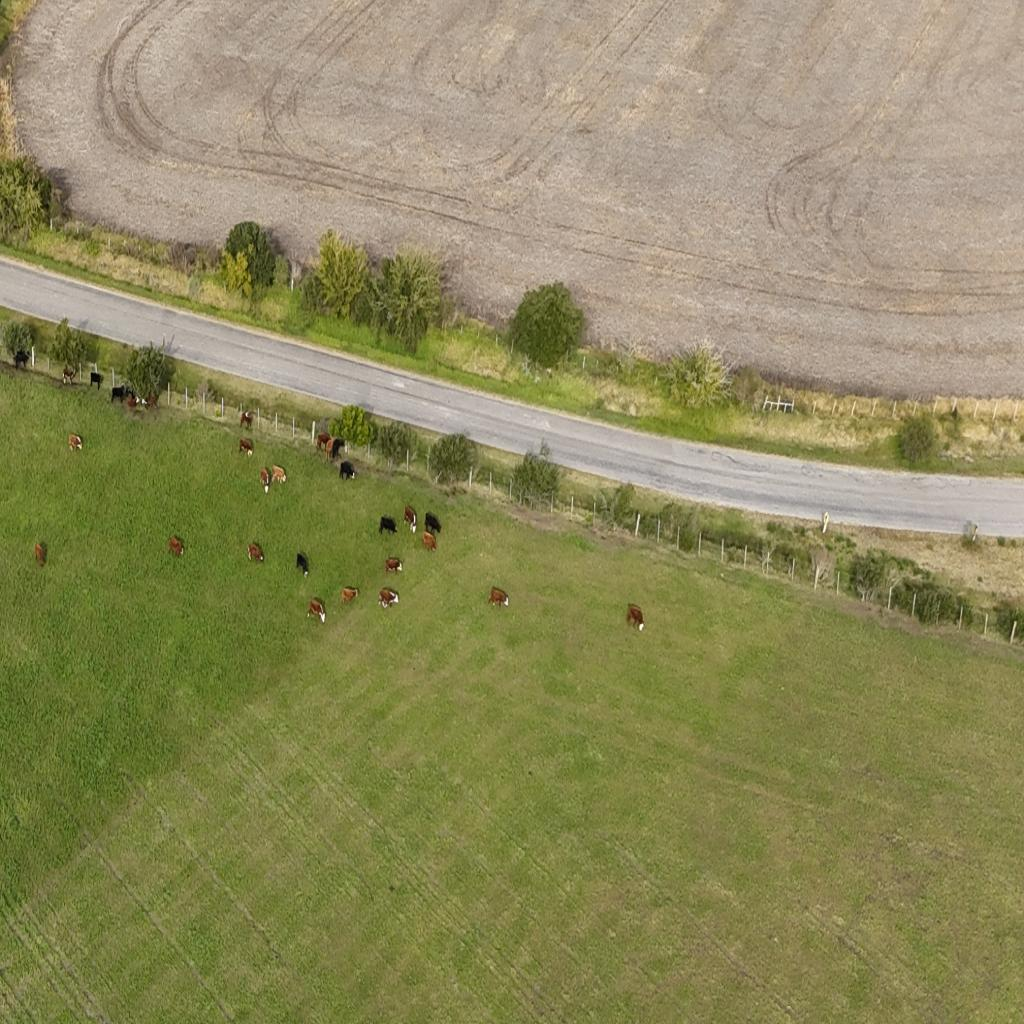cow: (626, 604, 646, 632), (421, 511, 443, 535), (306, 598, 326, 624), (378, 587, 400, 609), (489, 586, 509, 610), (327, 438, 345, 462), (384, 556, 404, 576), (340, 586, 359, 607), (403, 505, 417, 532), (296, 552, 310, 578), (379, 516, 397, 536), (338, 461, 356, 481), (247, 542, 264, 563), (168, 536, 185, 557), (316, 432, 332, 454), (14, 349, 29, 371), (422, 530, 436, 553), (238, 438, 254, 458), (271, 465, 287, 485), (110, 384, 126, 404), (68, 433, 83, 454), (259, 467, 271, 493), (62, 365, 76, 387), (35, 541, 46, 567), (240, 410, 253, 431), (89, 370, 102, 390), (125, 393, 139, 409), (144, 394, 158, 410)
